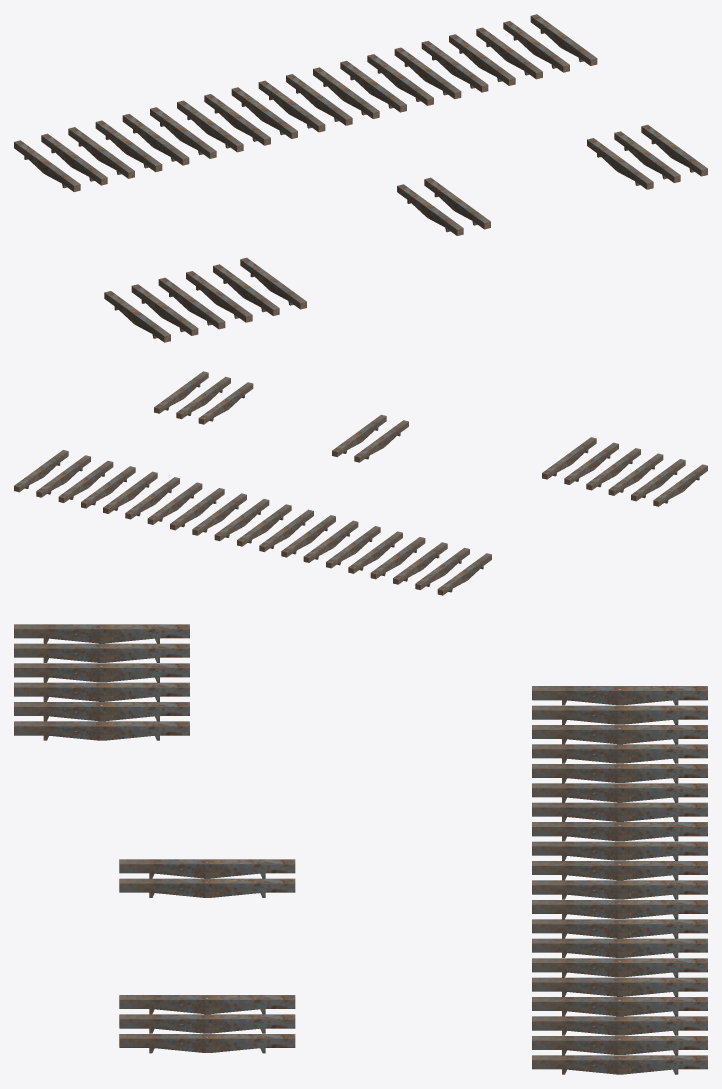
The model's file is Ship block.fbx.
3 renders of one model, top to bottom at view 1: azimuth 30°, elevation 25°; view 2: azimuth 150°, elevation 25°; view 3: azimuth 270°, elevation 25°, orthographic. The views are drawn at different scales.
Visible parts, largest first — view 1: Ship blocks, Ship blocks.001, Ship blocks.003, Ship blocks.002; view 2: Ship blocks, Ship blocks.001, Ship blocks.003, Ship blocks.002; view 3: Ship blocks, Ship blocks.001, Ship blocks.003, Ship blocks.002.
Boxes of the visible parts, <box> form: Ship blocks: <box>14,14,597,191</box>; Ship blocks.001: <box>104,257,306,342</box>; Ship blocks.003: <box>587,124,707,189</box>; Ship blocks.002: <box>397,177,490,235</box>; Ship blocks: <box>14,450,491,595</box>; Ship blocks.001: <box>542,437,707,506</box>; Ship blocks.003: <box>154,371,253,424</box>; Ship blocks.002: <box>332,414,408,462</box>; Ship blocks: <box>532,686,707,1074</box>; Ship blocks.001: <box>14,624,189,740</box>; Ship blocks.003: <box>119,995,295,1053</box>; Ship blocks.002: <box>119,859,295,897</box>.
Size of the model in its own units: 12453 by 197 by 8381.
Materials: 1 (1 with a texture image).
